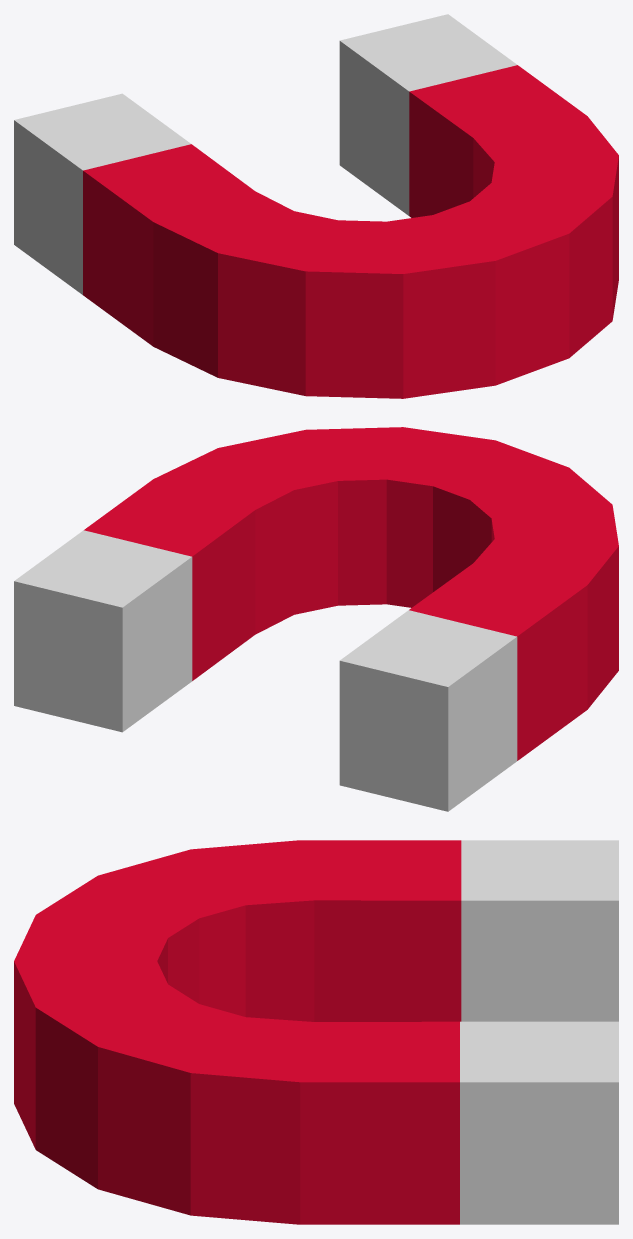
File: magnet.fbx
The picture shows the model from 3 angles, top to bottom: view 1: azimuth 30°, elevation 25°; view 2: azimuth 150°, elevation 25°; view 3: azimuth 270°, elevation 25°; orthographic projection. The views are drawn at different scales.
Parts seen in each view (by area): view 1: Circle; view 2: Circle; view 3: Circle.
Boxes of the visible parts, x1=… form: Circle: x1=14, y1=14, x2=618, y2=398; Circle: x1=14, y1=427, x2=618, y2=811; Circle: x1=14, y1=840, x2=618, y2=1224.
Size of the model in its own units: 200 by 54.91 by 211.
